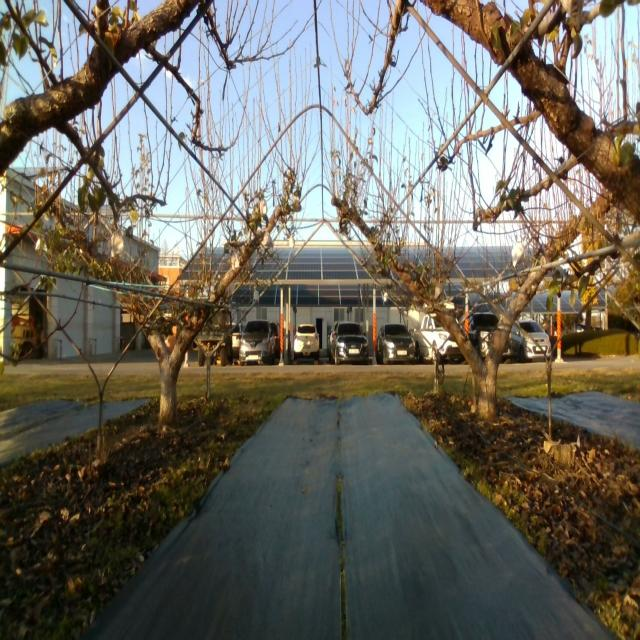pearbags: (110, 228, 124, 257), (511, 240, 525, 267)
